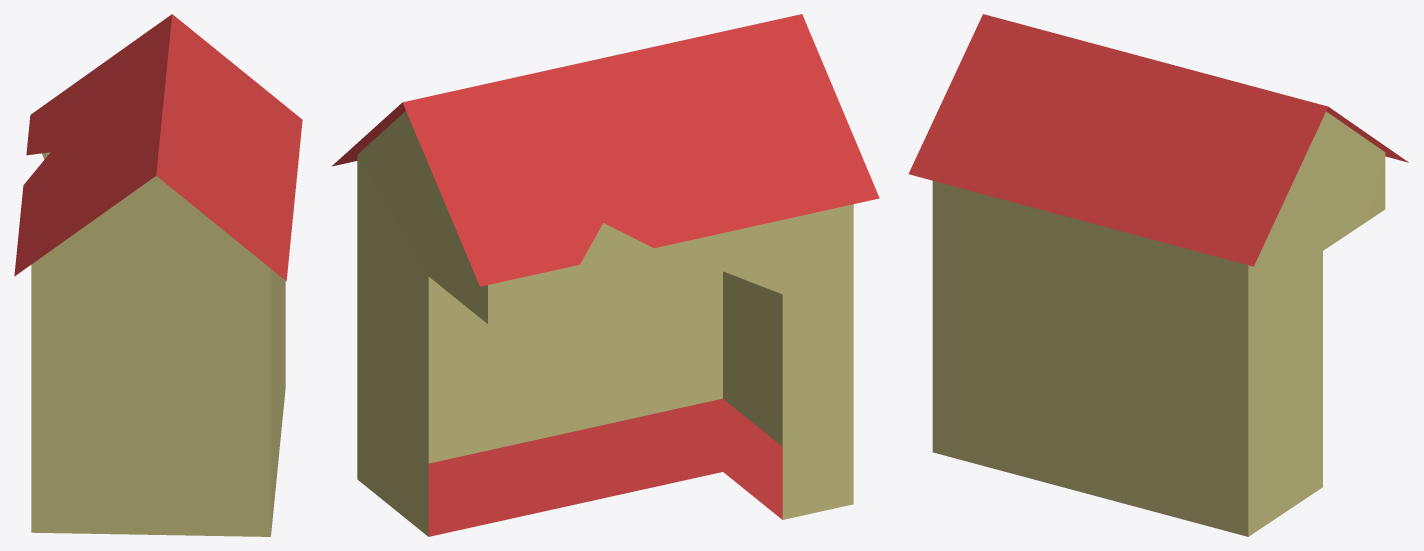
3 renders of one model, left to right at view 1: azimuth 30°, elevation 25°; view 2: azimuth 150°, elevation 25°; view 3: azimuth 270°, elevation 25°, orthographic. The views are drawn at different scales.
Size of the model in its own units: 13.26 by 14.29 by 12.3.
